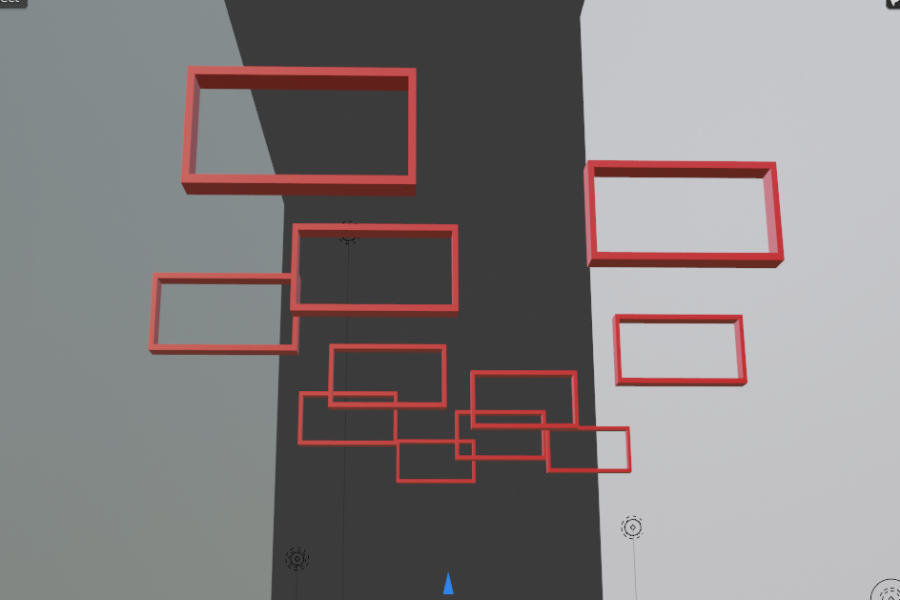GATE: (191, 66, 418, 184), (584, 164, 783, 269), (292, 224, 460, 312), (154, 274, 298, 353), (613, 313, 751, 385), (327, 344, 449, 410), (468, 371, 579, 431), (295, 391, 397, 445), (543, 425, 631, 474), (458, 413, 549, 460), (393, 440, 475, 484)
